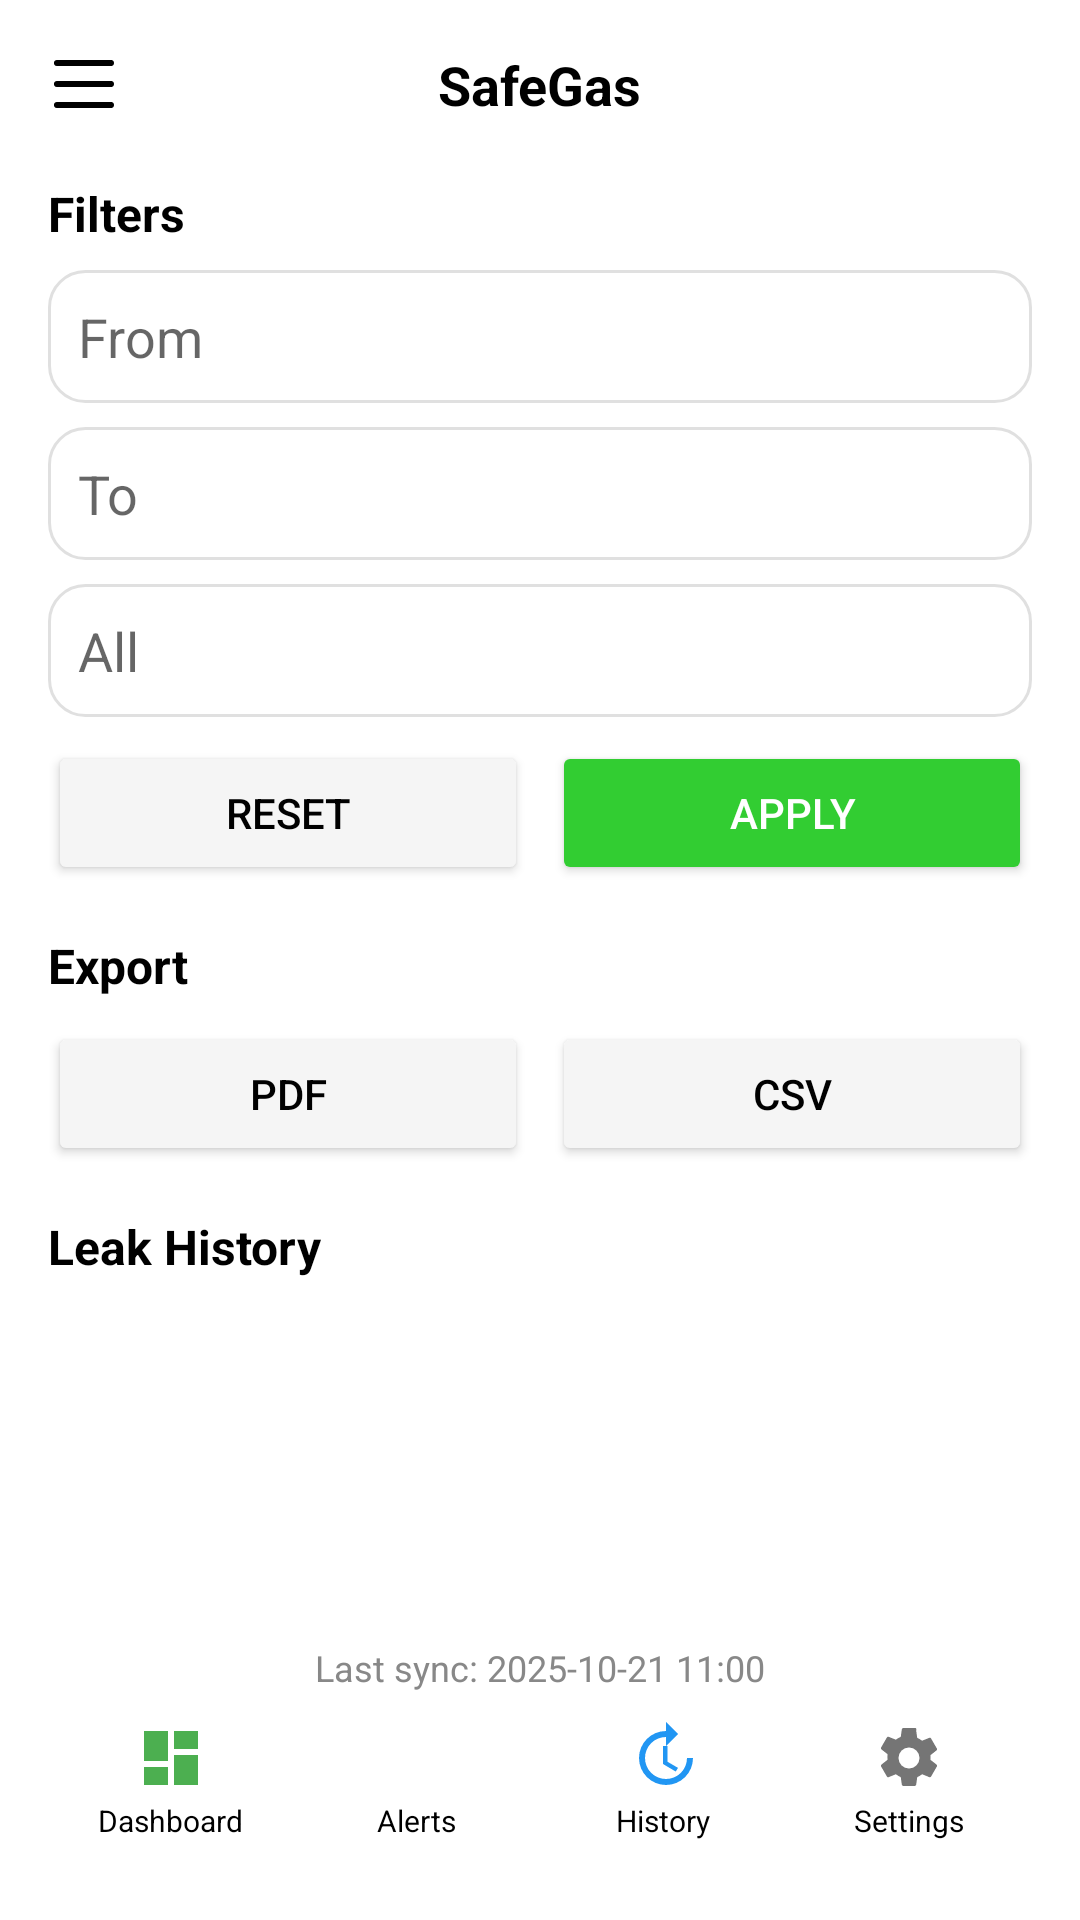

Named icons in this screenshot (1080*1920) and their centers, (x,y):
Menu: (84,84)
